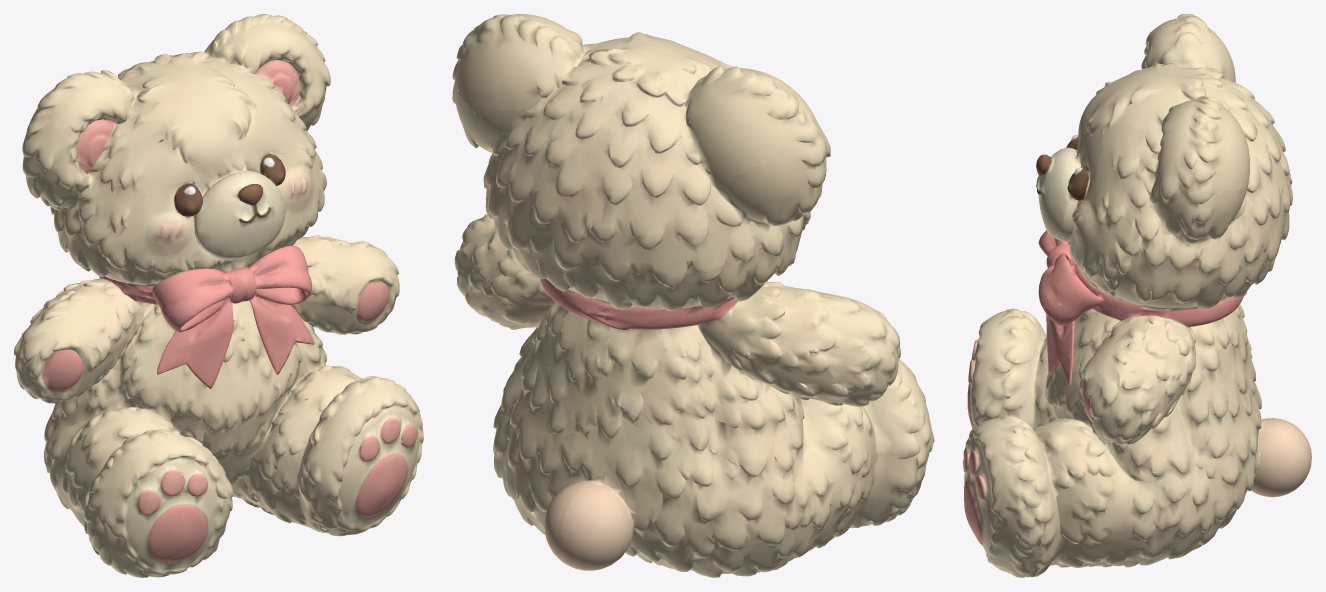
Rendered from bear_big.glb.
The picture shows the model from 3 angles, left to right: view 1: azimuth 30°, elevation 25°; view 2: azimuth 150°, elevation 25°; view 3: azimuth 270°, elevation 25°; orthographic projection. The views are drawn at different scales.
Visible parts, largest first — view 1: tripo_node_75b2c0a8-8c48-4ff0-8262-745498949270; view 2: tripo_node_75b2c0a8-8c48-4ff0-8262-745498949270; view 3: tripo_node_75b2c0a8-8c48-4ff0-8262-745498949270.
Part boxes in pixels (<box>): tripo_node_75b2c0a8-8c48-4ff0-8262-745498949270: <box>14,14,423,577</box>; tripo_node_75b2c0a8-8c48-4ff0-8262-745498949270: <box>452,14,934,577</box>; tripo_node_75b2c0a8-8c48-4ff0-8262-745498949270: <box>963,14,1311,577</box>.
Size of the model in its own units: 0.8523 by 0.9798 by 0.6666.
Materials: 1 (1 with a texture image).
